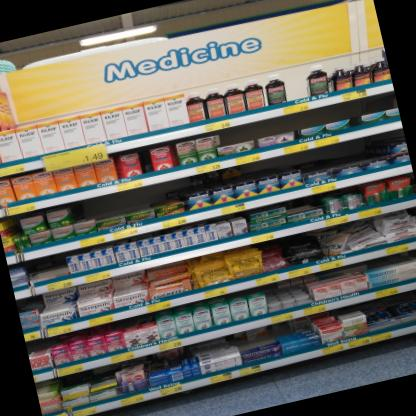empty_space: (25, 254, 71, 286), (285, 72, 309, 102)
